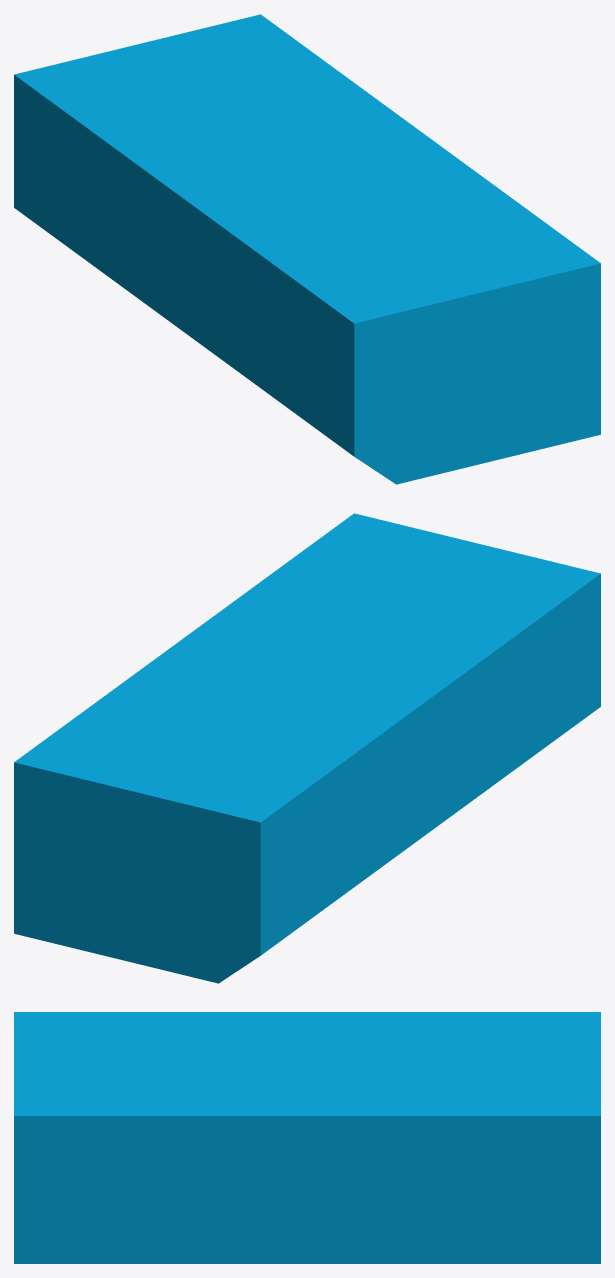
Rendered from Air_Extractor_01_Lod0.fbx.
The picture shows the model from 3 angles, top to bottom: view 1: azimuth 30°, elevation 25°; view 2: azimuth 150°, elevation 25°; view 3: azimuth 270°, elevation 25°; orthographic projection. The views are drawn at different scales.
Visible parts, largest first — view 1: Air_Extractor_01_Lod0; view 2: Air_Extractor_01_Lod0; view 3: Air_Extractor_01_Lod0.
Part boxes in pixels (bbox=[...]): Air_Extractor_01_Lod0: bbox=[14, 14, 600, 484]; Air_Extractor_01_Lod0: bbox=[14, 513, 600, 983]; Air_Extractor_01_Lod0: bbox=[14, 1012, 600, 1263].
Size of the model in its own units: 82.87 by 54.98 by 198.
